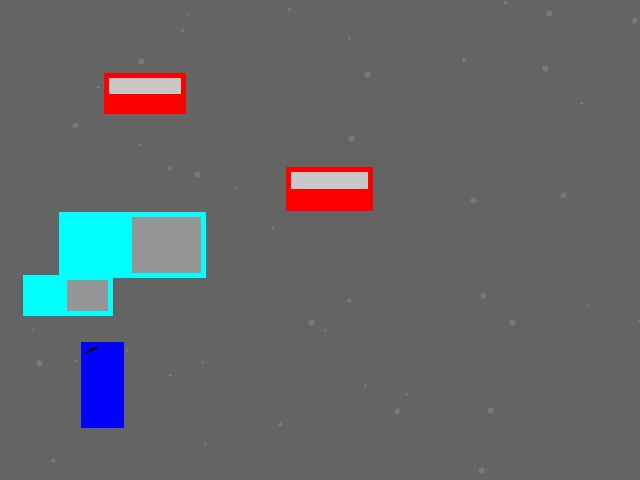car: (286, 167, 372, 210), (104, 73, 185, 113)
motorcycle: (81, 342, 123, 427)
truck: (59, 212, 205, 277), (23, 275, 112, 315)
